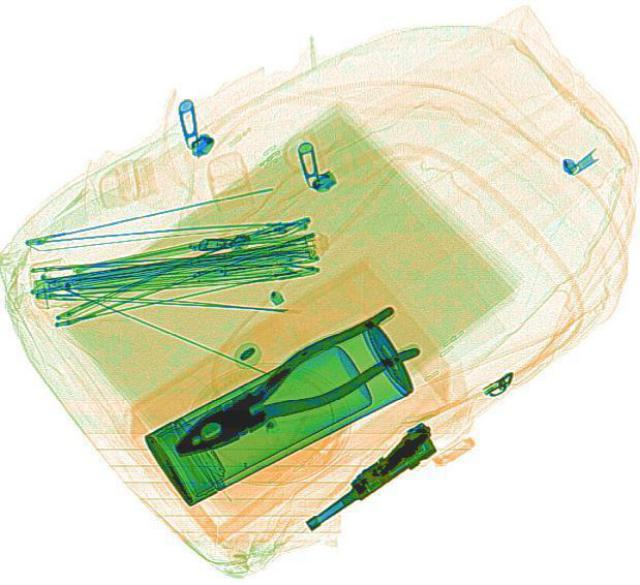Gun: (287, 417, 448, 534)
Pliers: (153, 300, 425, 472)
